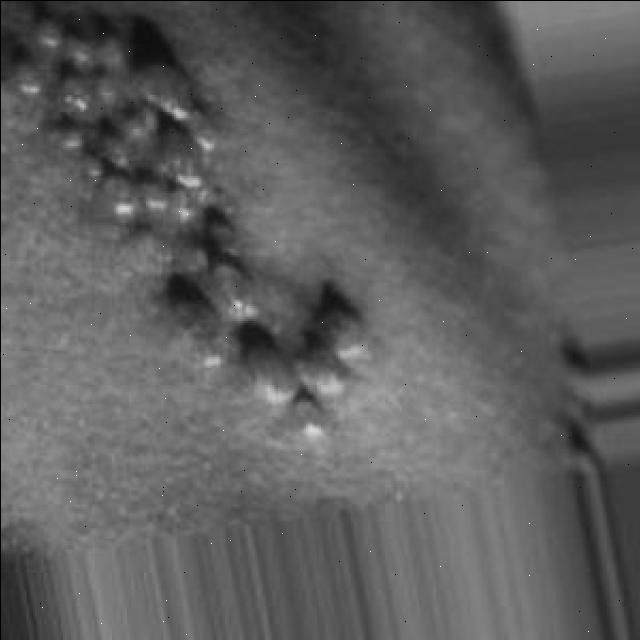Shingles: (0, 0, 374, 439)
